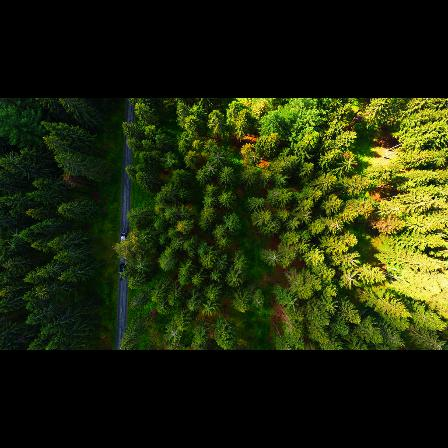Sick: (265, 250, 283, 267), (165, 327, 183, 343), (327, 219, 346, 233), (296, 208, 312, 223), (204, 159, 217, 176), (251, 295, 265, 310), (7, 240, 19, 253)
